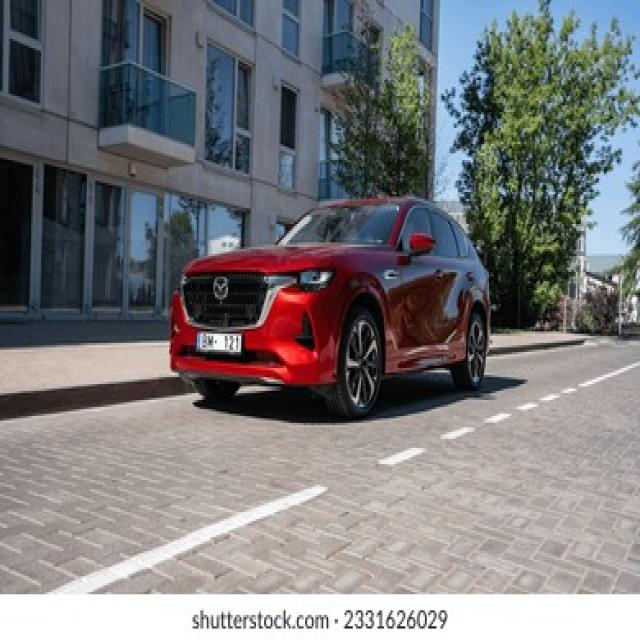mazda: (212, 276, 230, 299)
